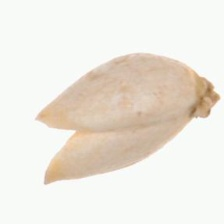L1: (31, 111, 87, 186), (190, 70, 220, 122)
L2: (35, 53, 219, 186)
